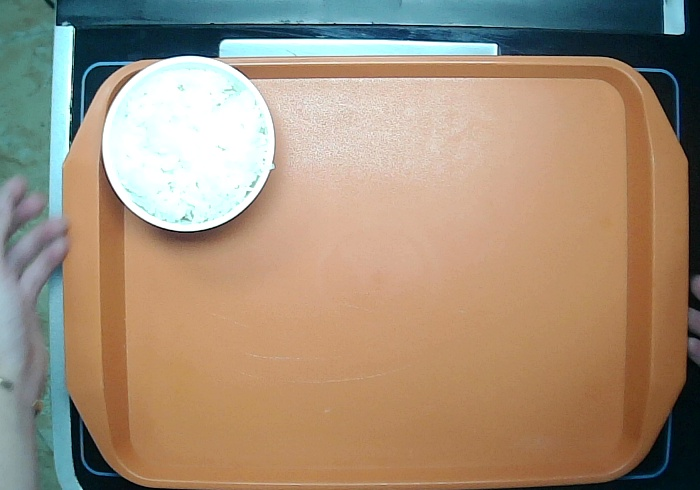HZYJPL-Fan_Wan: (89, 37, 285, 247)
